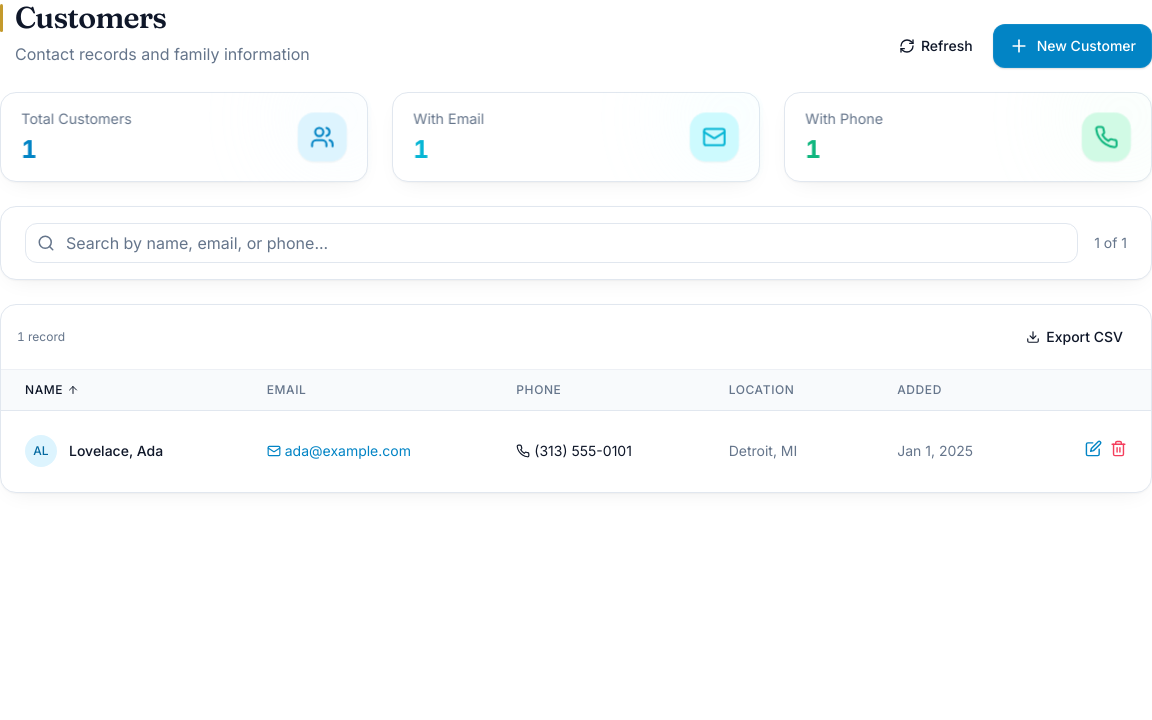
Test: Customers page — modal state between sessions › opens Edit clean after a failed create was cancelled
The image size is (1152, 720).
// Fail a create: blank required fields, submitted.
Click the button "New Customer" at (1072, 46), box [993, 24, 1151, 68]
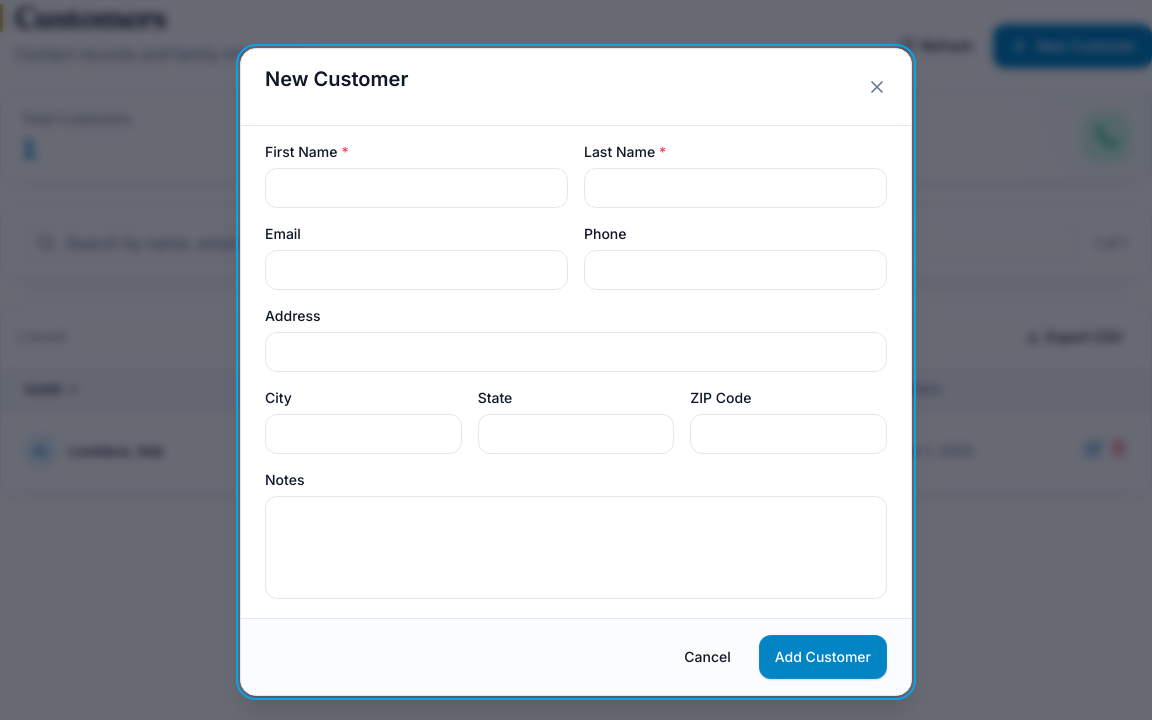
Click the button "Add Customer" at (823, 657), box [759, 635, 887, 679]
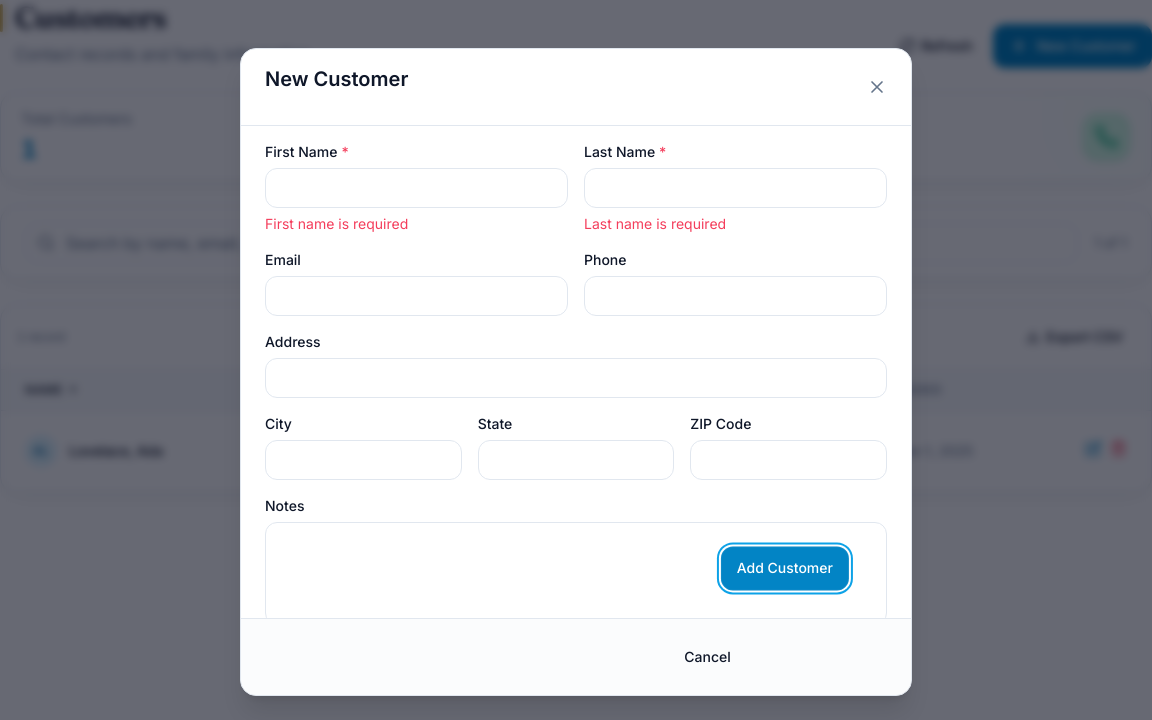
Expected: the text "First name is required" is shown, [265, 215, 408, 232]
Click the button "Cancel" at (708, 657), box [668, 635, 747, 679]
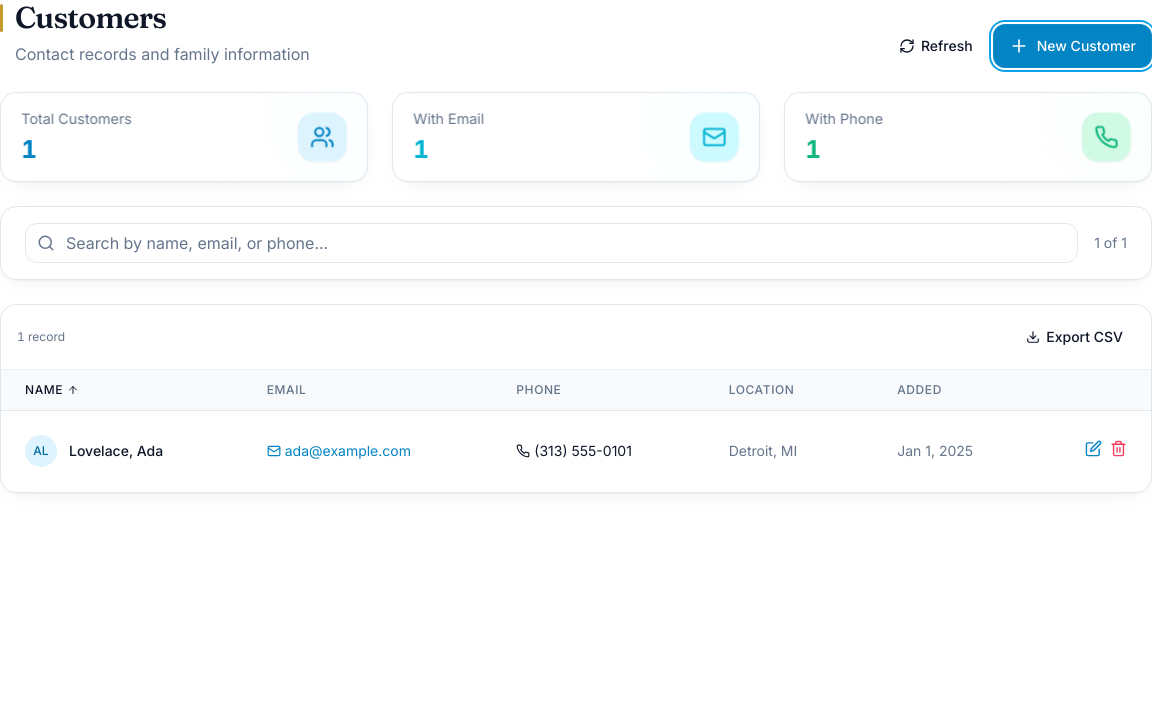
Expected: the dialog is gone
// Now edit an existing record. It must arrive populated and uncomplaining.
Click the button named "Edit" at (1094, 449), box [1085, 427, 1102, 471]
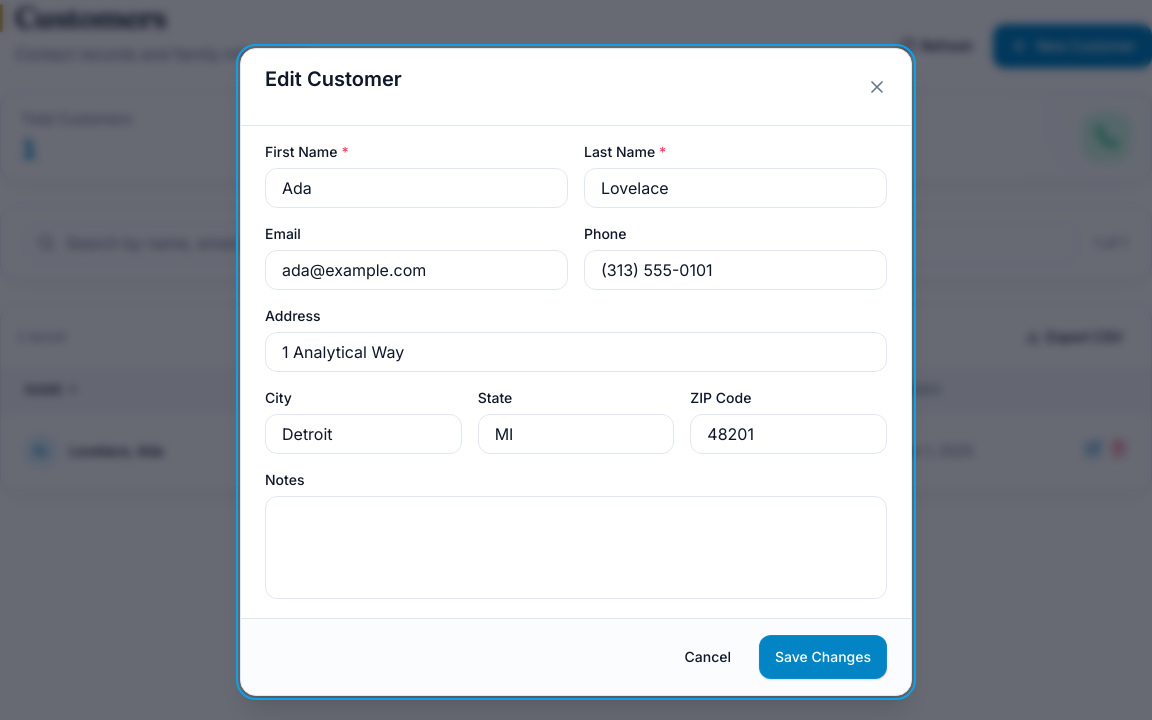
Expected: the text "First name is required" is not shown
Expected: the dialog is shown, [240, 48, 912, 696]
Expected: the field labelled "First Name*" holds "Ada", [265, 168, 568, 208]
